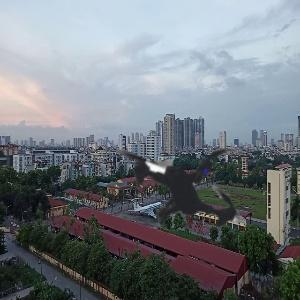drone: (69, 67, 298, 296)
